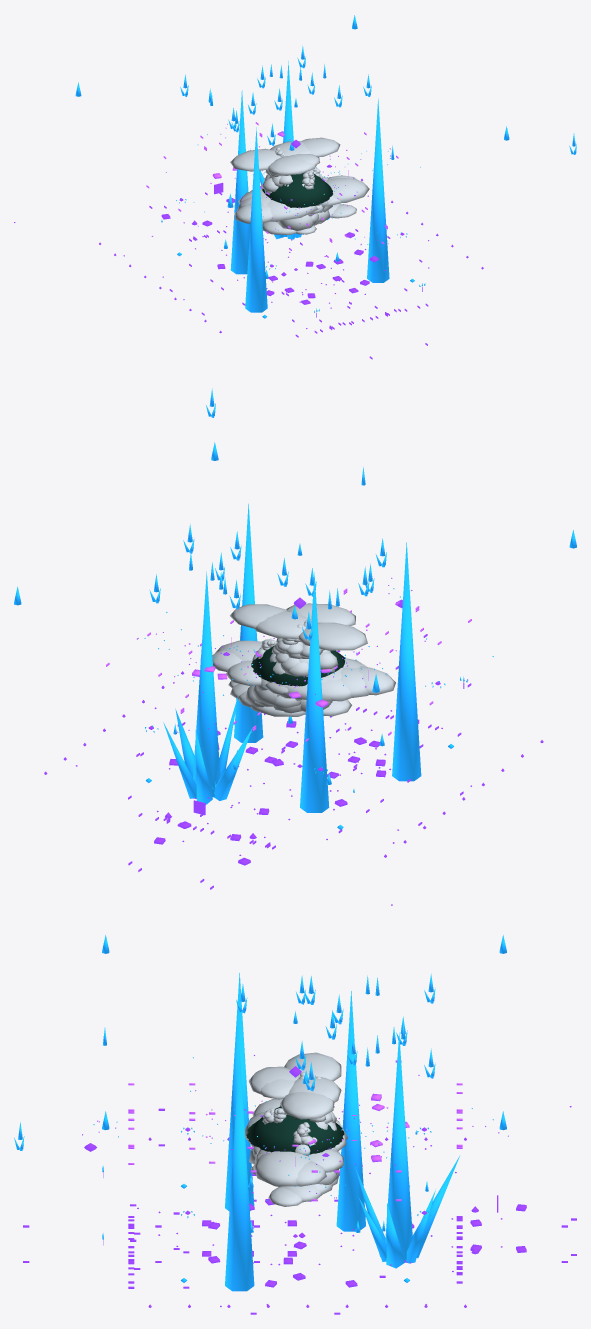
Rendered from ethereal_scape_props.fbx.
3 views of the same model, one above another, from view 1: azimuth 30°, elevation 25°; view 2: azimuth 150°, elevation 25°; view 3: azimuth 270°, elevation 25° (orthographic). The views are drawn at different scales.
Visible parts, largest first — view 1: prop_es_temple_gate_b_light_prop_01, prop_es_cumulus_c, prop_es_cumulus_b, prop_es_crystal_hollow_light_prop_01, prop_es_cumulus_a, prop_es_side_relic_altar_light_prop_01, prop_es_sanctum_temple_01_light_prop_01; view 2: prop_es_cumulus_c, prop_es_temple_gate_b_light_prop_01, prop_es_side_relic_altar_light_prop_01, prop_es_cumulus_b, prop_es_crystal_hollow_light_prop_01, prop_es_cumulus_a, prop_es_sanctum_temple_01_light_prop_01, prop_es_miniboss_waystone_ring_light_prop_01; view 3: prop_es_temple_gate_b_light_prop_01, prop_es_side_relic_altar_light_prop_01, prop_es_cumulus_c, prop_es_cumulus_b, prop_es_crystal_hollow_light_prop_01, prop_es_sanctum_temple_01_light_prop_01, prop_es_miniboss_waystone_ring_light_prop_01, prop_es_cumulus_a, prop_es_rooted_hollow_canopy_22_0_m8_0_prop_01.
Part boxes in pixels (left/top/right/bottom): prop_es_temple_gate_b_light_prop_01: left=193, top=98, right=389, bottom=328; prop_es_cumulus_c: left=230, top=137, right=356, bottom=224; prop_es_cumulus_b: left=234, top=167, right=369, bottom=223; prop_es_crystal_hollow_light_prop_01: left=217, top=90, right=400, bottom=325; prop_es_cumulus_a: left=262, top=150, right=332, bottom=234; prop_es_side_relic_altar_light_prop_01: left=250, top=61, right=353, bottom=337; prop_es_sanctum_temple_01_light_prop_01: left=75, top=15, right=509, bottom=333; prop_es_cumulus_c: left=228, top=603, right=367, bottom=716; prop_es_temple_gate_b_light_prop_01: left=166, top=503, right=421, bottom=846; prop_es_side_relic_altar_light_prop_01: left=163, top=571, right=461, bottom=804; prop_es_cumulus_b: left=212, top=638, right=395, bottom=701; prop_es_crystal_hollow_light_prop_01: left=163, top=572, right=329, bottom=820; prop_es_cumulus_a: left=255, top=619, right=351, bottom=716; prop_es_sanctum_temple_01_light_prop_01: left=14, top=442, right=576, bottom=857; prop_es_miniboss_waystone_ring_light_prop_01: left=169, top=524, right=386, bottom=839; prop_es_temple_gate_b_light_prop_01: left=128, top=973, right=462, bottom=1291; prop_es_side_relic_altar_light_prop_01: left=130, top=1032, right=460, bottom=1268; prop_es_cumulus_c: left=248, top=1052, right=342, bottom=1206; prop_es_cumulus_b: left=244, top=1099, right=347, bottom=1186; prop_es_crystal_hollow_light_prop_01: left=128, top=991, right=462, bottom=1269; prop_es_sanctum_temple_01_light_prop_01: left=84, top=935, right=506, bottom=1307; prop_es_miniboss_waystone_ring_light_prop_01: left=134, top=976, right=456, bottom=1287; prop_es_cumulus_a: left=249, top=1072, right=338, bottom=1186; prop_es_rooted_hollow_canopy_22_0_m8_0_prop_01: left=246, top=1107, right=344, bottom=1152.
Size of the model in its own units: 325 by 160 by 343.
